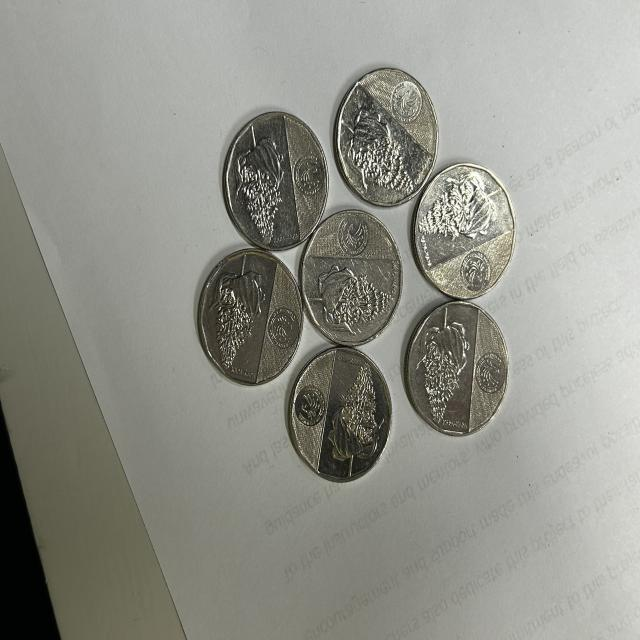10_New_Back: (342, 90, 417, 198), (418, 171, 503, 250), (312, 250, 378, 346), (238, 128, 286, 240), (214, 254, 256, 374), (420, 304, 460, 425), (344, 356, 381, 471)
